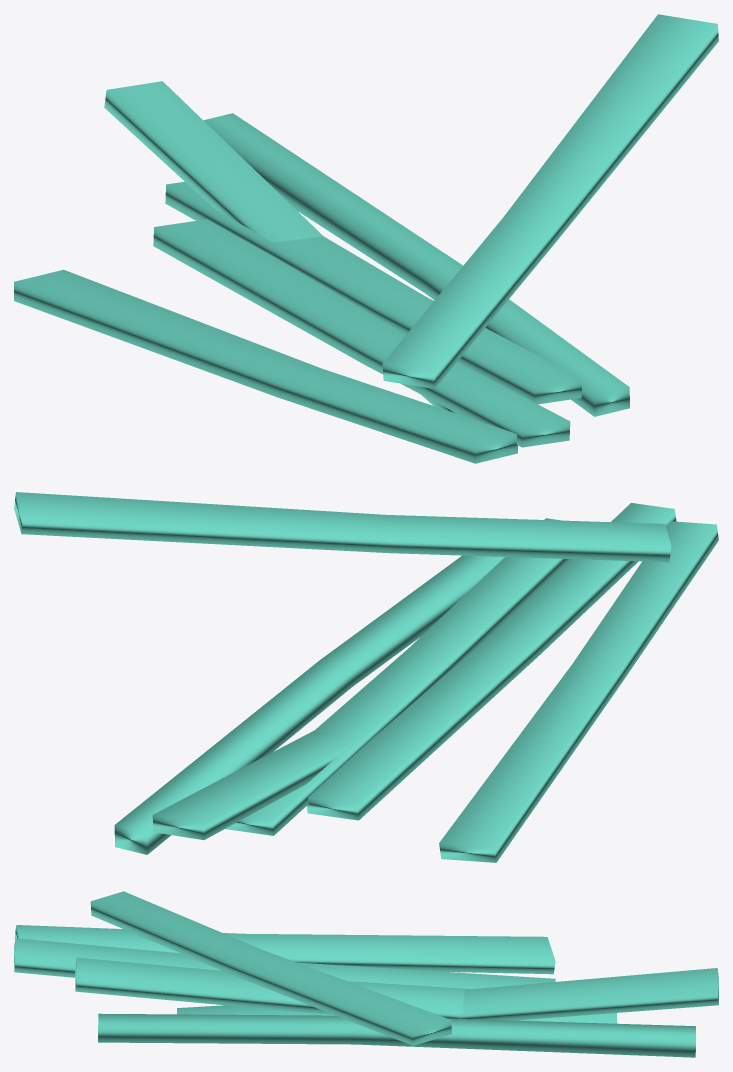
Rendered from Cupboard_10B_Break_Lod1.fbx.
The picture shows the model from 3 angles, top to bottom: view 1: azimuth 30°, elevation 25°; view 2: azimuth 150°, elevation 25°; view 3: azimuth 270°, elevation 25°; orthographic projection. The views are drawn at different scales.
Visible parts, largest first — view 1: Cupboard_10B_Break_Lod1; view 2: Cupboard_10B_Break_Lod1; view 3: Cupboard_10B_Break_Lod1.
Part boxes in pixels (left/top/right/bottom): Cupboard_10B_Break_Lod1: left=14, top=14, right=718, bottom=463; Cupboard_10B_Break_Lod1: left=14, top=492, right=718, bottom=862; Cupboard_10B_Break_Lod1: left=14, top=891, right=718, bottom=1057.
Bounding box in the file's own units: 122 × 37.19 × 160.
